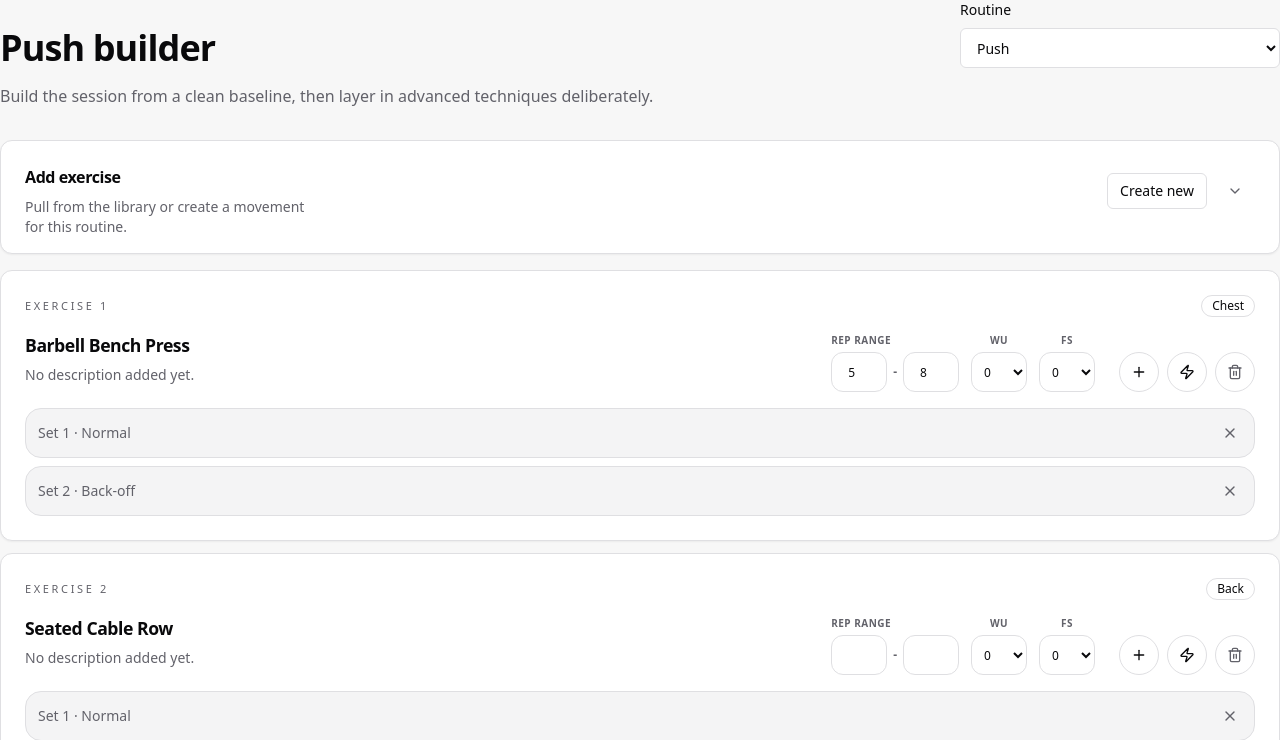
Scenario: RoutineDetailPage › reflects the create-exercise disclosure open state accessibly
Click the button "Create new" at (1157, 191), box [1107, 173, 1207, 209]
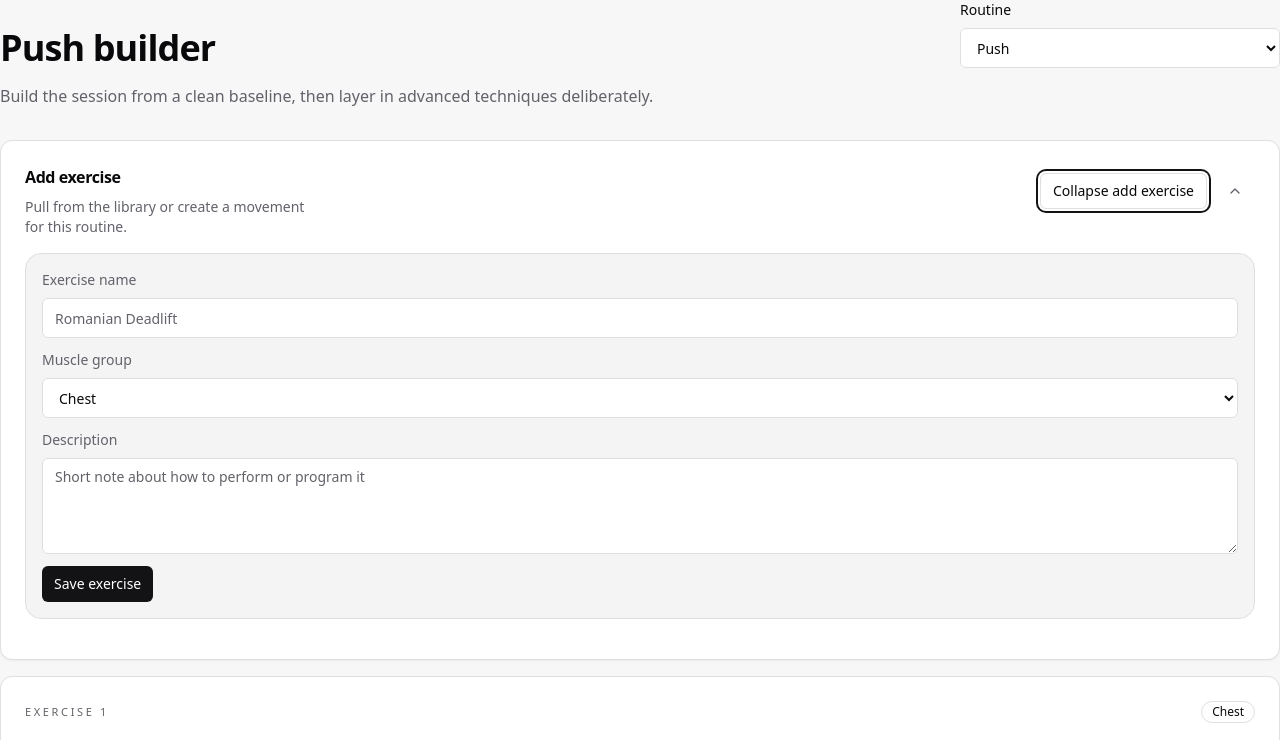
expect the button named "create new" is expanded: met
expect the button named "create new" reads "Collapse add exercise": met
Click the button named "create new" at (1124, 191), box [1040, 173, 1207, 209]
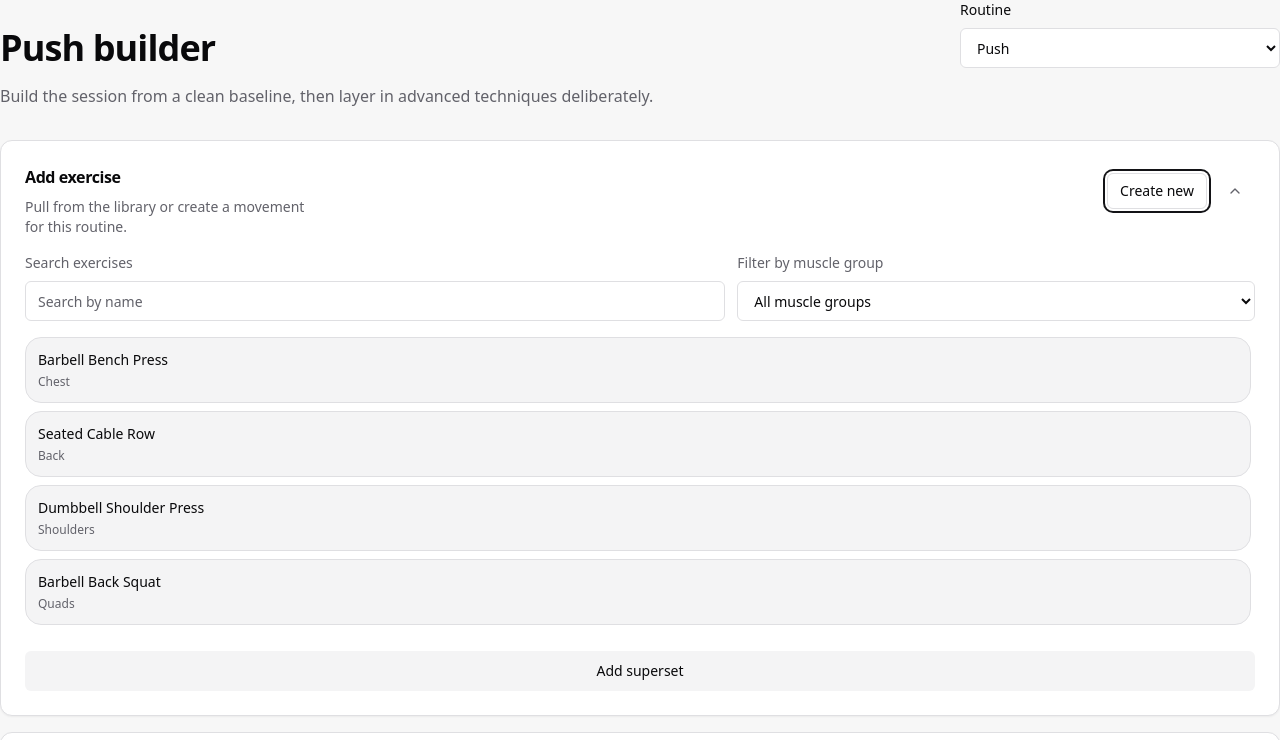
expect the button "Create new" is collapsed: met, box [1107, 173, 1207, 209]
